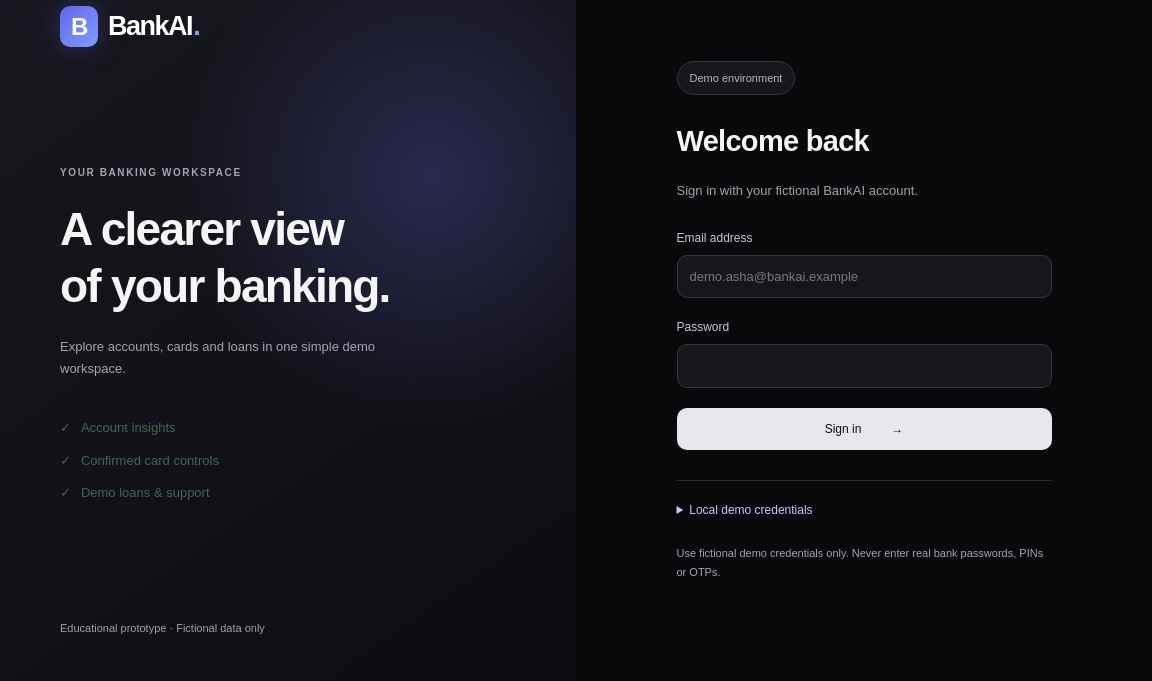
Test: signs in, displays fetched balance, and signs out without keeping customer data
Type "demo.test@bankai.example" into the field labelled "Email address" at (864, 277), box [676,255,1052,298]
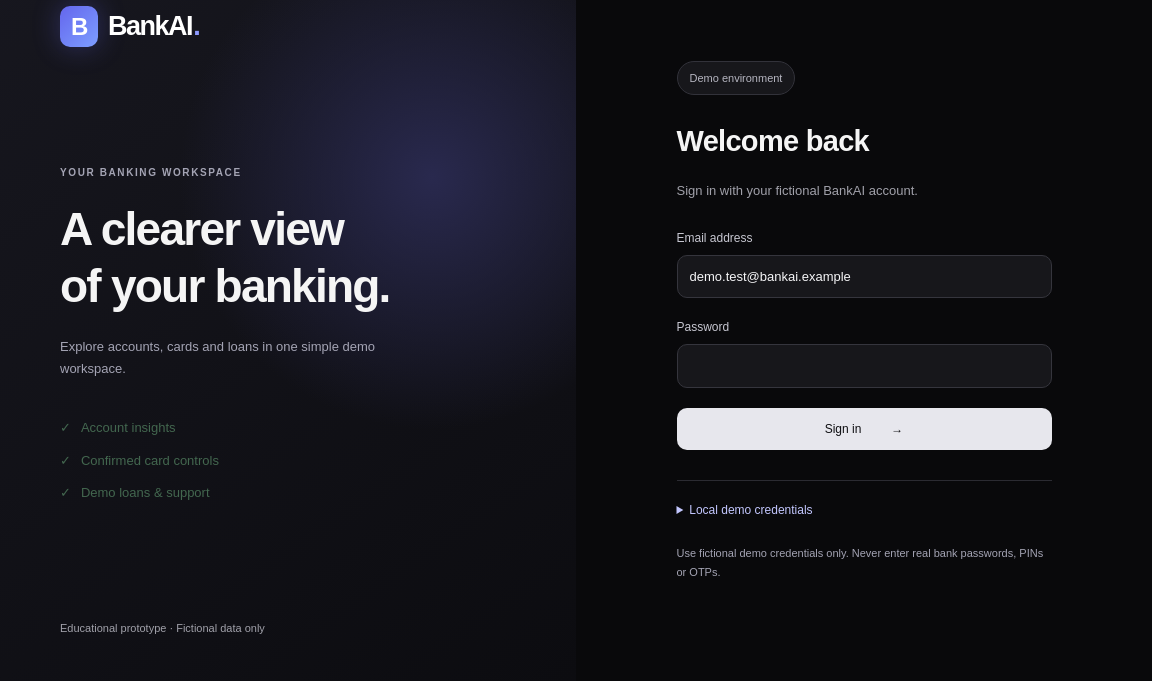
Type "fictional-password" into the password field labelled "Password" at (864, 366), box [676,344,1052,388]
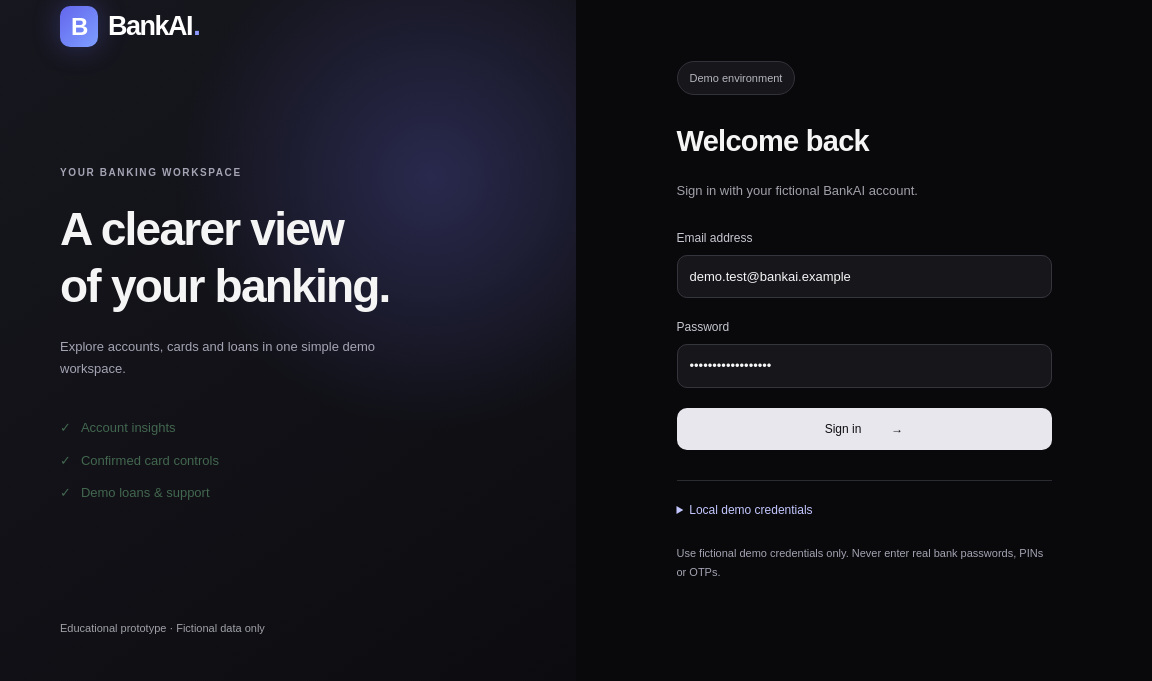
Click the button "Sign in →" at (864, 429), box [676,408,1052,450]
(page scrolled)
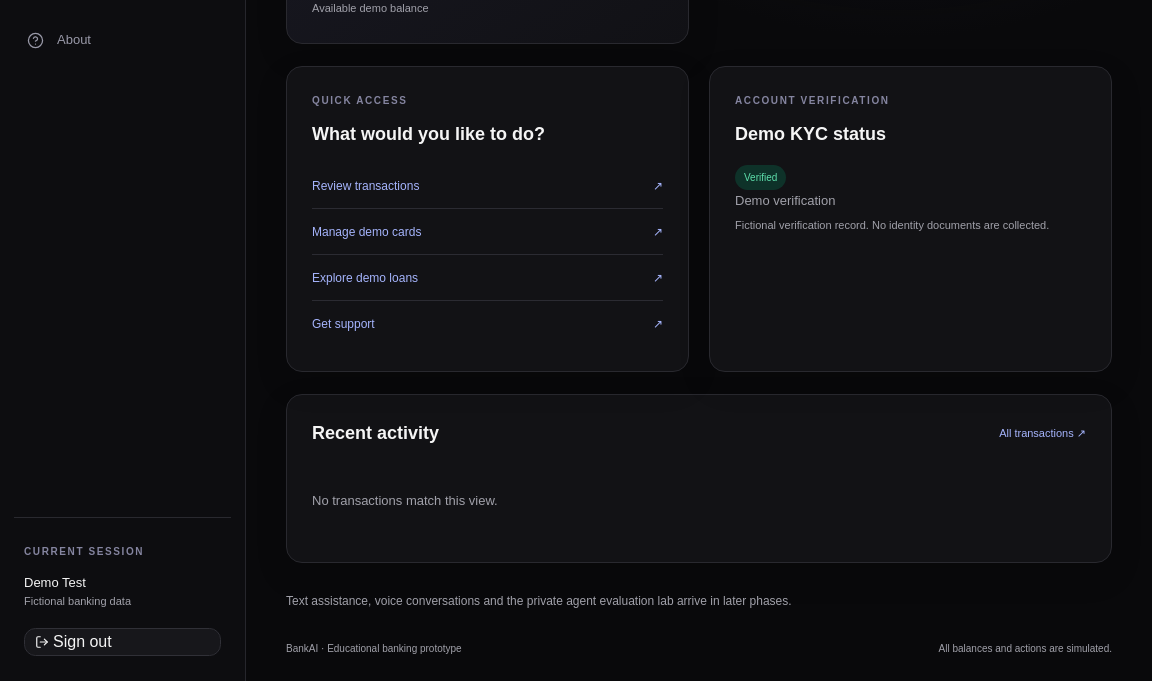
Click the button "Sign out" at (122, 642), box [24,628,221,656]
(page scrolled)
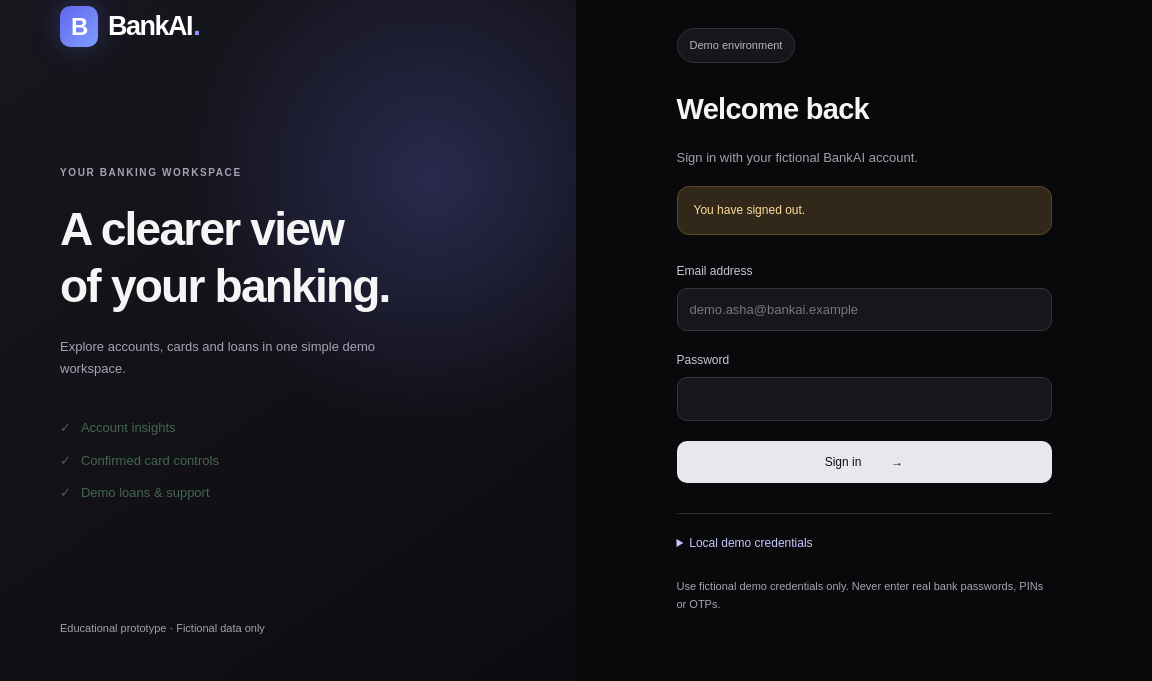
Now the field labelled "Email address" is shown, box [676,288,1052,331]
